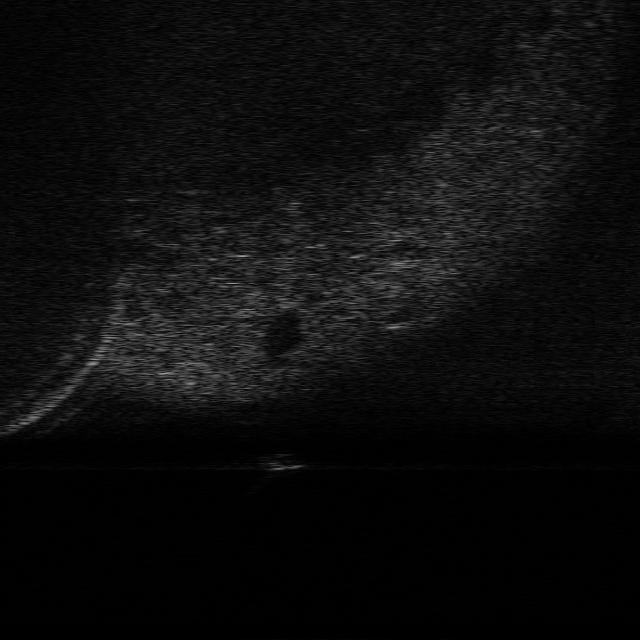cube: (255, 454, 310, 474)
